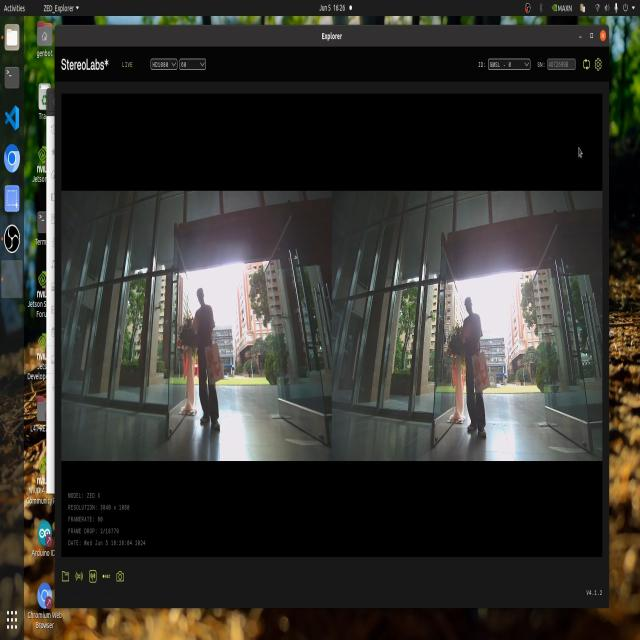red: (474, 357, 496, 397), (204, 336, 215, 388)
